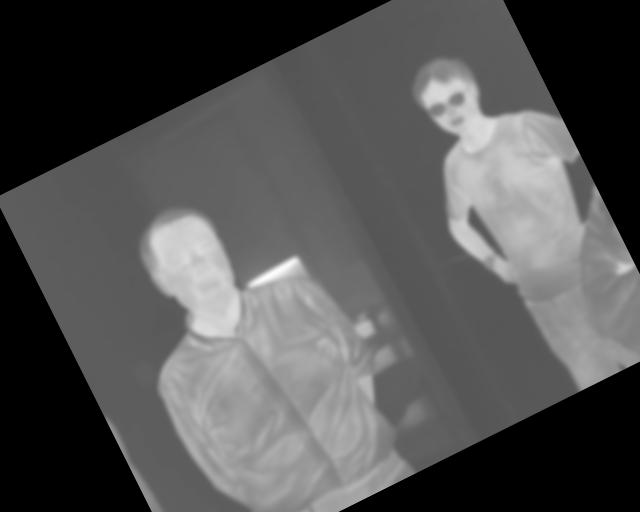face: (124, 191, 250, 332), (401, 45, 497, 151)
